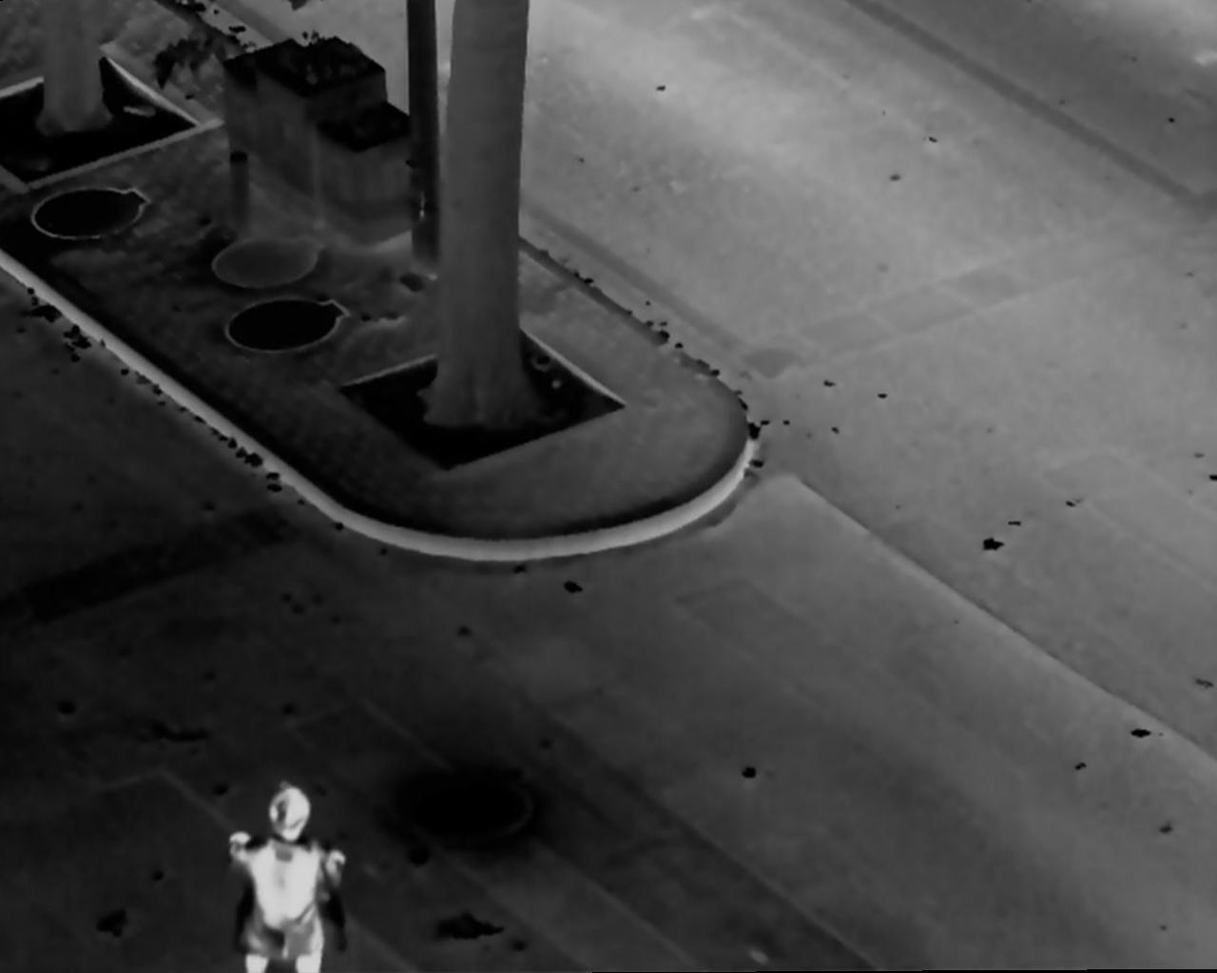person: (235, 779, 354, 973)
